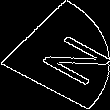N_NW: (10, 24, 100, 86)
